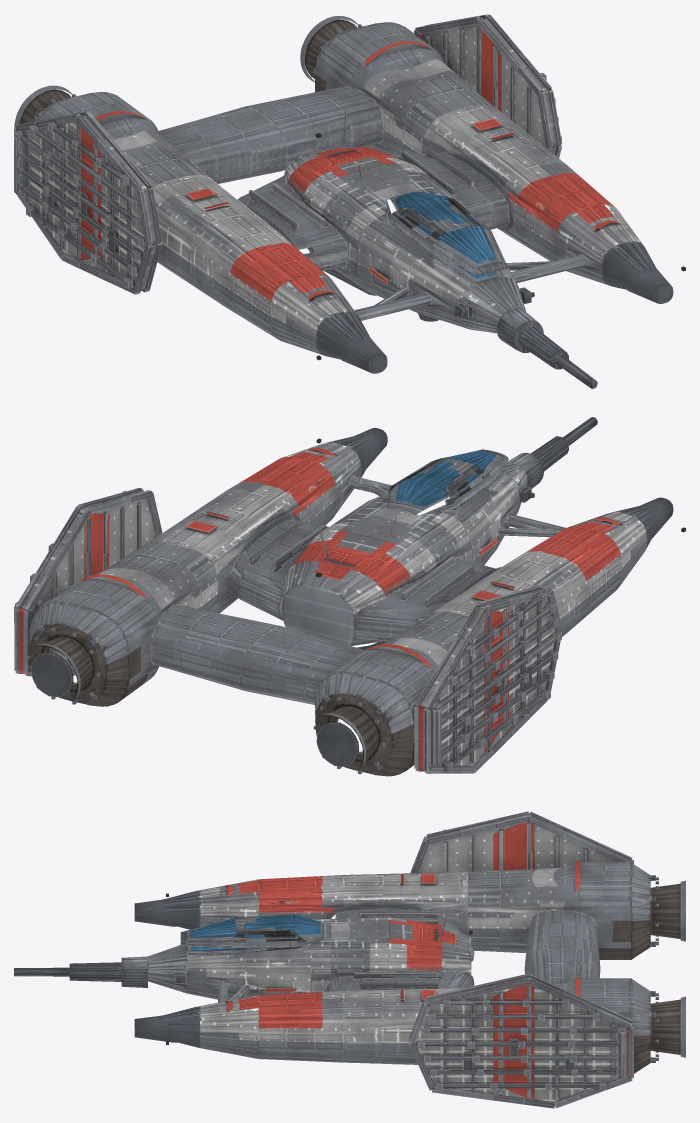
The model's file is sd_ship_sahin_hd.glb.
3 renders of one model, top to bottom at view 1: azimuth 30°, elevation 25°; view 2: azimuth 150°, elevation 25°; view 3: azimuth 270°, elevation 25°, orthographic. The views are drawn at different scales.
Parts seen in each view (by area): view 1: LOD0_body, LOD1_body; view 2: LOD0_body, LOD1_body; view 3: LOD0_body, LOD1_body.
Part boxes in pixels (x1,y1,x2,y2): LOD0_body: [14, 14, 685, 388]; LOD1_body: [14, 14, 672, 388]; LOD0_body: [14, 417, 685, 776]; LOD1_body: [14, 417, 672, 776]; LOD0_body: [14, 811, 685, 1108]; LOD1_body: [14, 812, 685, 1108].
Bounding box in the file's own units: 0.6098 × 0.2132 × 1.
1 material, 1 textured.
